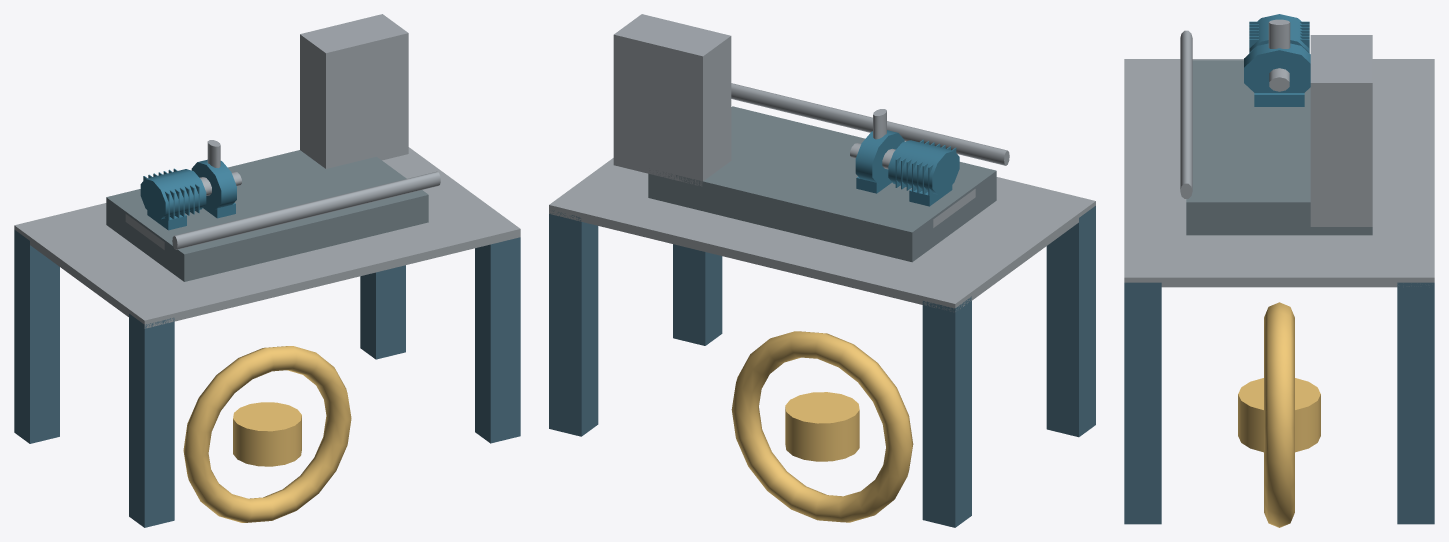
The picture shows the model from 3 angles, left to right: view 1: azimuth 30°, elevation 25°; view 2: azimuth 150°, elevation 25°; view 3: azimuth 270°, elevation 25°; orthographic projection. The views are drawn at different scales.
Parts seen in each view (by area): view 1: g4001, g0003, g0001, visualHandle, g1, g3001, g0, g0002, object 25, g2, g3, g5; view 2: g4001, g0003, g0001, visualHandle, g0, g2, g1, object 25, g3001, g0002, g3, g5; view 3: g4001, g0003, g0001, g2, g3001, visualHandle, object 25, g5, g0002, g3, g2001, g7 (+1 smaller).
Boxes of the visible parts, x1=… form: g4001: x1=14, y1=147, x2=520, y2=328; g0003: x1=106, y1=150, x2=428, y2=281; g0001: x1=300, y1=14, x2=408, y2=168; visualHandle: x1=183, y1=346, x2=351, y2=522; g1: x1=129, y1=313, x2=174, y2=527; g3001: x1=475, y1=237, x2=520, y2=443; g0: x1=14, y1=229, x2=59, y2=443; g0002: x1=172, y1=171, x2=440, y2=249; object 25: x1=233, y1=402, x2=301, y2=466; g2: x1=360, y1=265, x2=405, y2=359; g3: x1=140, y1=169, x2=206, y2=219; g5: x1=191, y1=159, x2=236, y2=209; g4001: x1=549, y1=158, x2=1095, y2=312; g0003: x1=648, y1=106, x2=996, y2=262; g0001: x1=613, y1=14, x2=731, y2=186; visualHandle: x1=731, y1=331, x2=913, y2=522; g0: x1=922, y1=296, x2=971, y2=527; g2: x1=549, y1=210, x2=598, y2=436; g1: x1=1046, y1=206, x2=1095, y2=437; object 25: x1=785, y1=392, x2=859, y2=461; g3001: x1=673, y1=244, x2=722, y2=345; g0002: x1=731, y1=83, x2=1009, y2=165; g3: x1=888, y1=140, x2=959, y2=194; g5: x1=855, y1=130, x2=904, y2=184; g4001: x1=1124, y1=59, x2=1434, y2=287; g0003: x1=1186, y1=60, x2=1372, y2=235; g0001: x1=1310, y1=35, x2=1372, y2=226; g2: x1=1397, y1=282, x2=1434, y2=524; g3001: x1=1124, y1=282, x2=1161, y2=524; visualHandle: x1=1264, y1=302, x2=1294, y2=527; object 25: x1=1238, y1=378, x2=1320, y2=452; g5: x1=1244, y1=43, x2=1310, y2=92; g0002: x1=1180, y1=30, x2=1192, y2=198; g3: x1=1249, y1=14, x2=1309, y2=52; g2001: x1=1254, y1=93, x2=1304, y2=106; g7: x1=1268, y1=19, x2=1290, y2=48.
Bounding box in the file's own units: 2 × 2.24 × 1.2.
